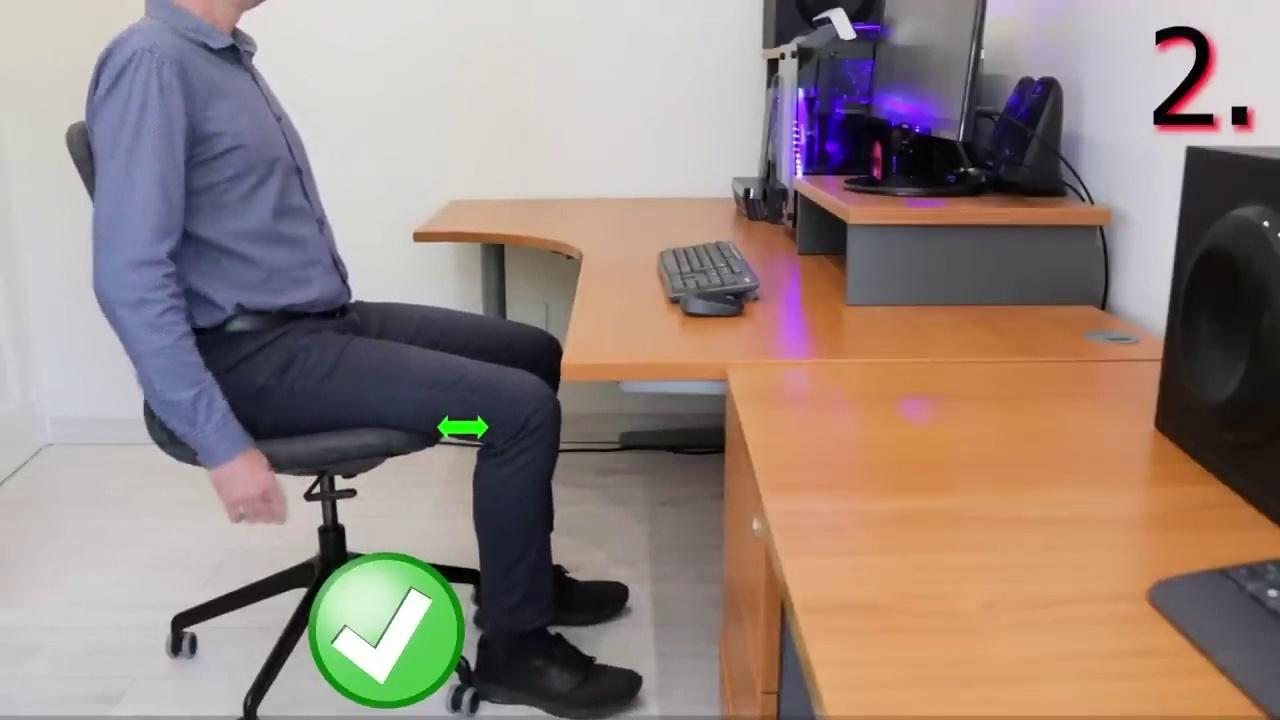GoodPosture: (87, 16, 642, 719)
